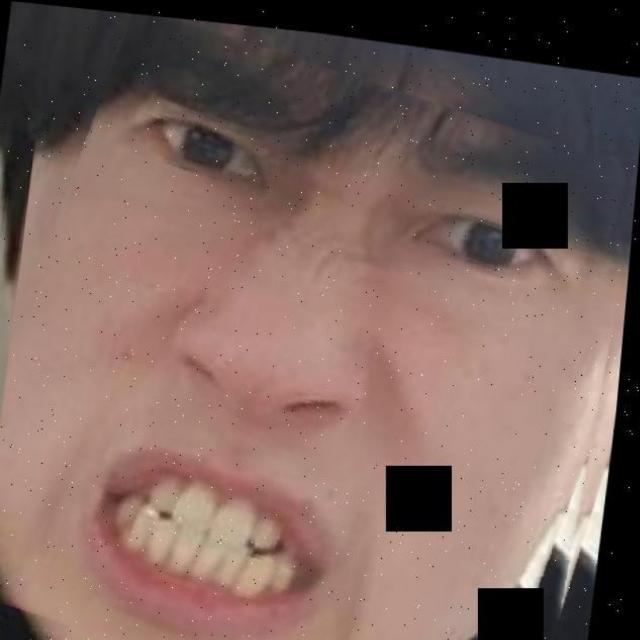Angry: (55, 66, 611, 640)
